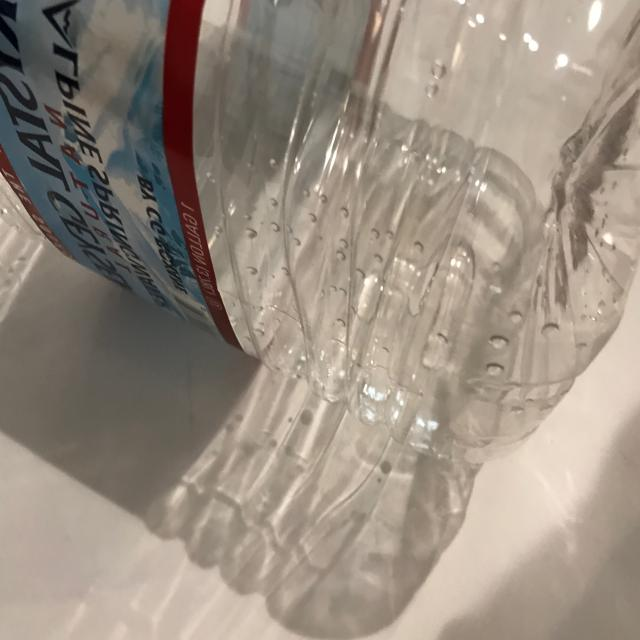plastic: (0, 0, 640, 483)
